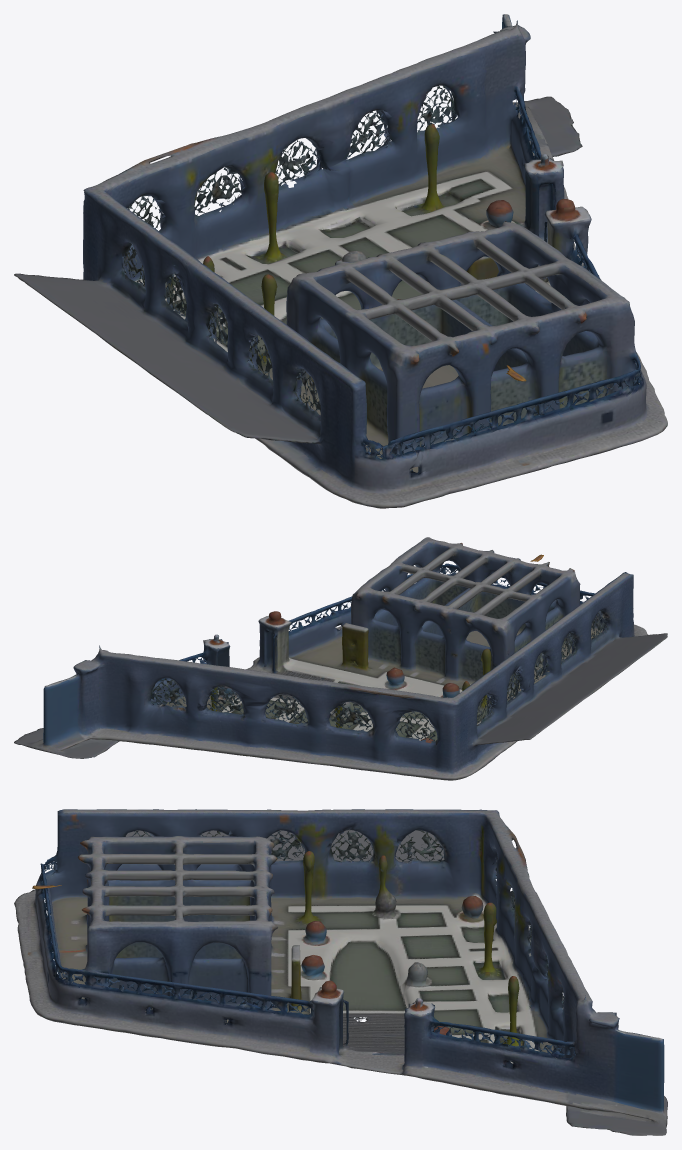
The model's file is bani-unaif-mosque.glb.
3 renders of one model, top to bottom at view 1: azimuth 30°, elevation 25°; view 2: azimuth 150°, elevation 25°; view 3: azimuth 270°, elevation 25°, orthographic. The views are drawn at different scales.
Parts seen in each view (by area): view 1: tripo_node_dc799d6e; view 2: tripo_node_dc799d6e; view 3: tripo_node_dc799d6e.
Boxes of the visible parts, x1,y1,x2,y2 form: tripo_node_dc799d6e: (14, 14, 667, 508); tripo_node_dc799d6e: (14, 537, 667, 780); tripo_node_dc799d6e: (14, 809, 667, 1135).
Bounding box in the file's own units: 92.87 × 18 × 97.78.
Materials: 1 (1 with a texture image).
